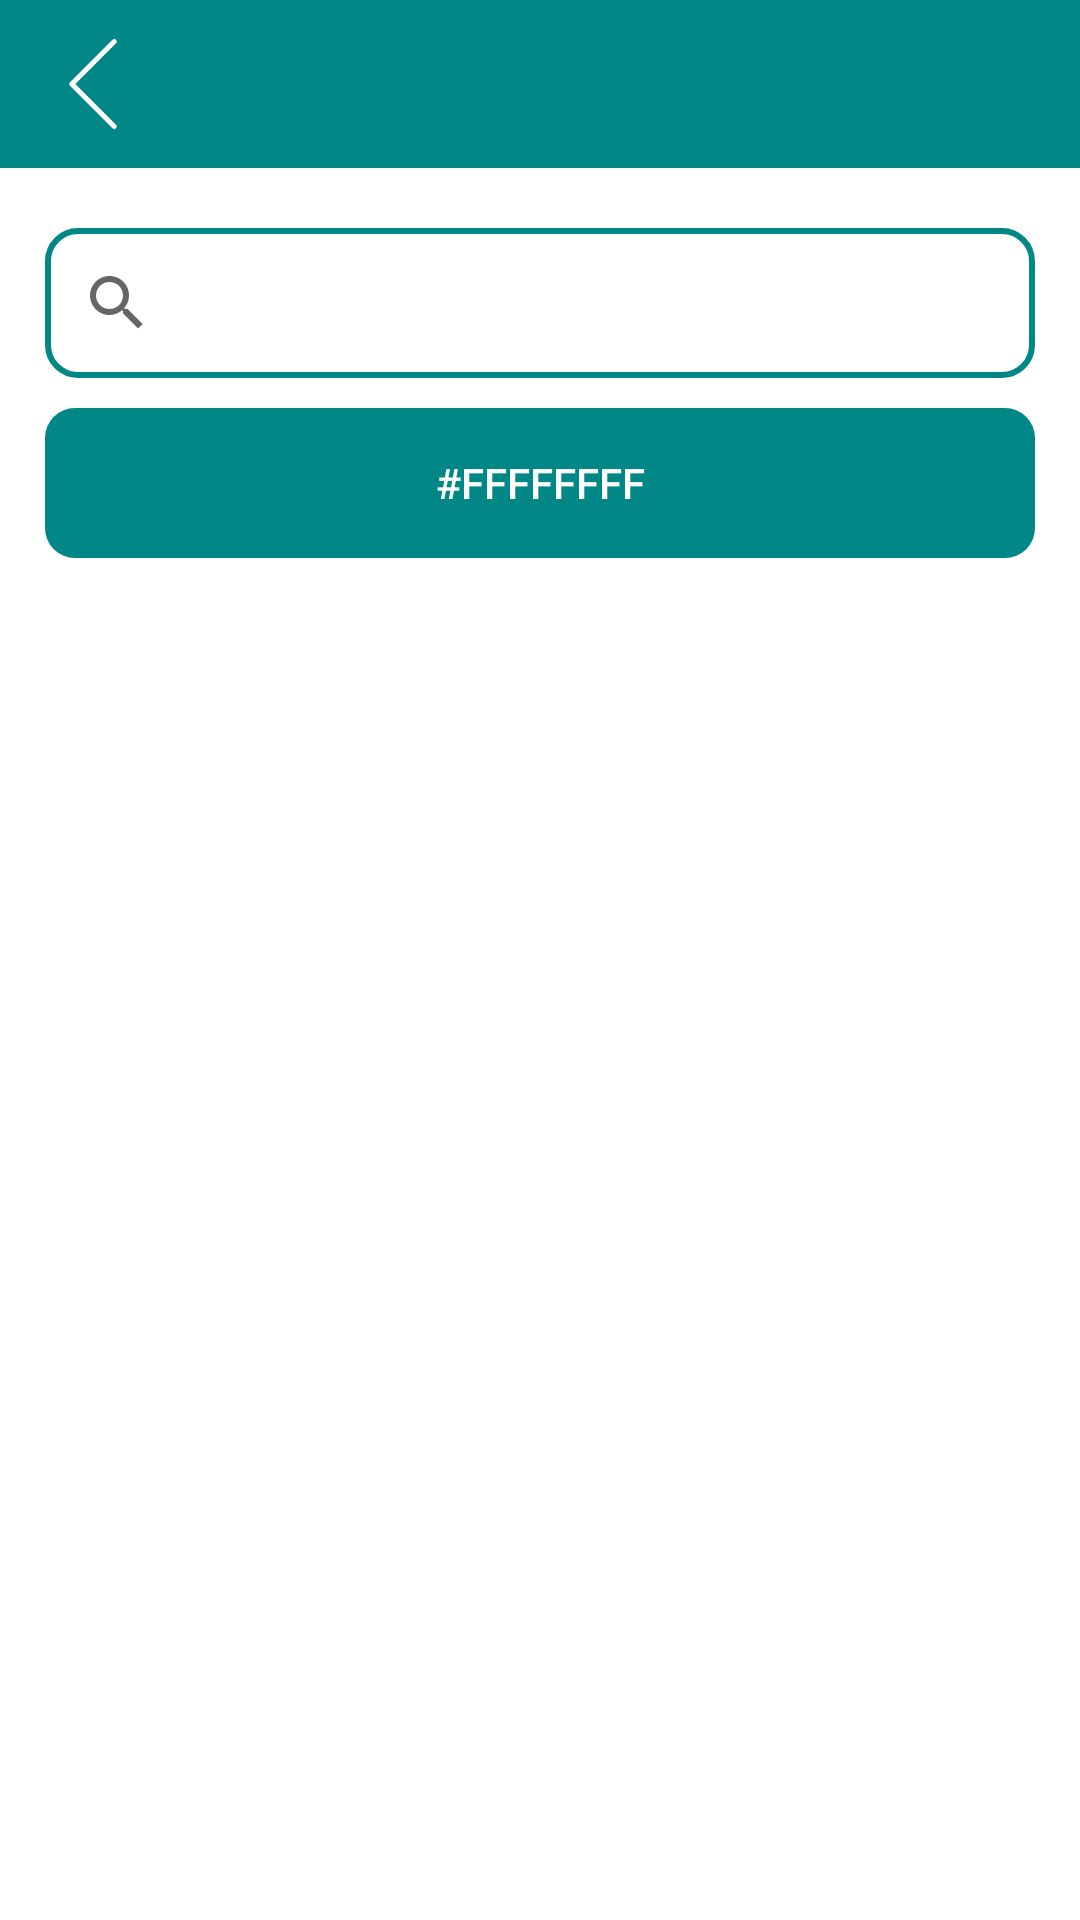

Icons on this 1080w x 1920h Android screen, each with its box as [left=x1, top=y1, right=x2, bottom=y2]:
back: [left=69, top=39, right=117, bottom=129]
